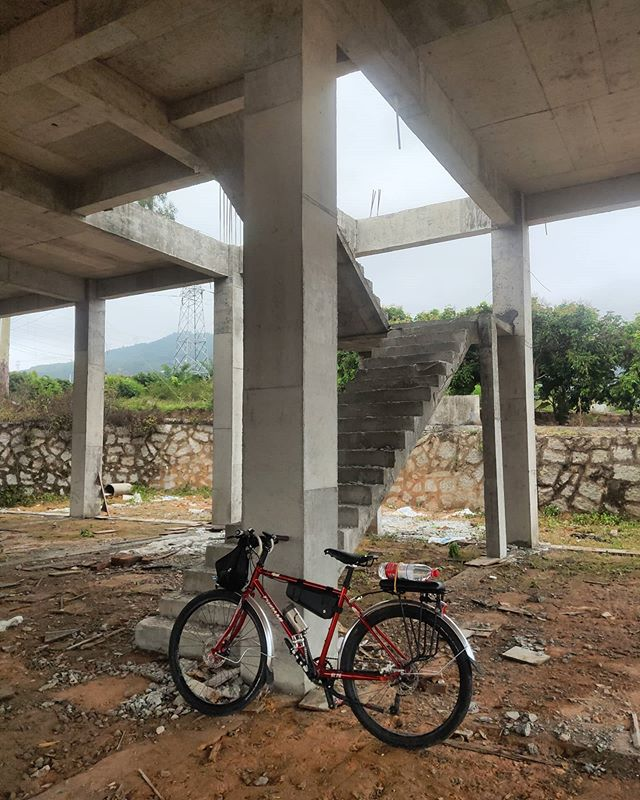bicicle: (167, 537, 487, 741)
